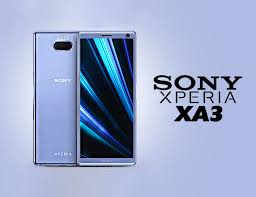sony: (75, 30, 138, 170), (32, 28, 79, 167)
